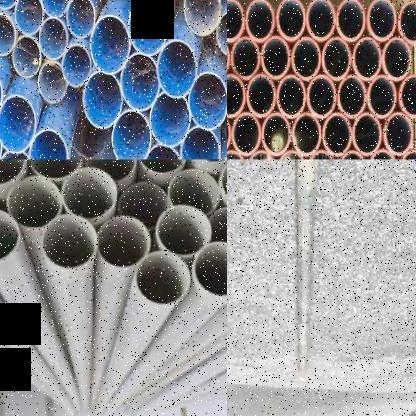pipe: (42, 216, 98, 270), (62, 168, 118, 221), (135, 252, 191, 304), (7, 176, 62, 228), (155, 205, 211, 255), (98, 217, 150, 268), (90, 15, 130, 75), (119, 182, 169, 229), (83, 72, 123, 130), (157, 40, 197, 98), (149, 92, 191, 147), (188, 71, 227, 130), (121, 53, 160, 111), (169, 170, 220, 214), (128, 0, 168, 56), (0, 95, 35, 154), (111, 110, 151, 159), (194, 242, 227, 297), (180, 124, 221, 160), (322, 113, 352, 157), (383, 114, 414, 156), (184, 0, 220, 36), (61, 44, 91, 87), (337, 75, 367, 118), (352, 37, 382, 80), (247, 74, 276, 118), (322, 37, 351, 81), (12, 36, 42, 78), (292, 112, 320, 157), (38, 61, 67, 104), (262, 113, 291, 156), (307, 75, 336, 118), (277, 75, 306, 118), (261, 36, 290, 79), (368, 75, 396, 119), (306, 0, 336, 41), (39, 18, 68, 60), (291, 38, 320, 80), (231, 36, 260, 78), (245, 0, 274, 42), (336, 0, 365, 42), (232, 113, 261, 154), (367, 0, 396, 41), (276, 0, 305, 41), (84, 160, 138, 182), (353, 114, 381, 156), (383, 38, 411, 80), (29, 129, 68, 159), (65, 0, 95, 38), (28, 160, 82, 180), (14, 0, 43, 35), (0, 208, 19, 261), (209, 207, 227, 253), (397, 0, 416, 43), (227, 75, 245, 118), (136, 160, 188, 174), (399, 75, 416, 117), (227, 0, 244, 41), (0, 13, 16, 56), (142, 144, 182, 160), (0, 159, 25, 184), (40, 0, 69, 17), (216, 12, 227, 56), (367, 149, 398, 159), (307, 150, 337, 159), (338, 150, 367, 159), (278, 150, 307, 159), (0, 0, 19, 10), (0, 64, 3, 124), (399, 150, 416, 159)
